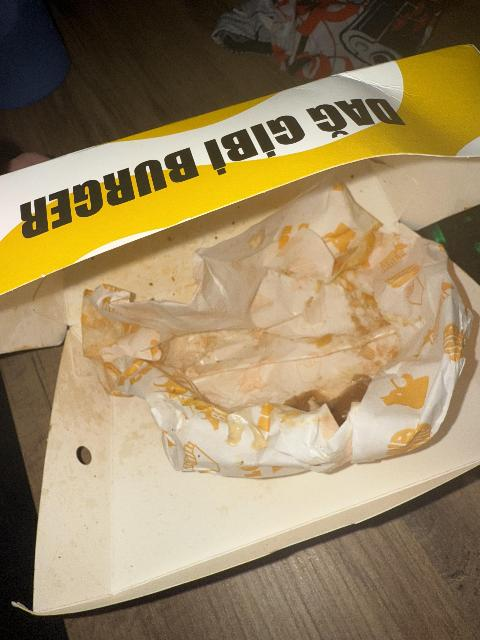Kagit: (0, 14, 480, 633), (75, 254, 478, 475)
